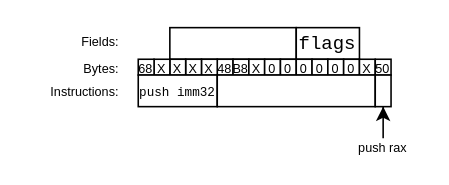
Image size: 449x185. Some labels were removed from this diagram. The centre of each missing label's shape, as x and y in pixels:
movabs rax, imm64: point (295, 90)
rseq_cs: point (232, 42)
